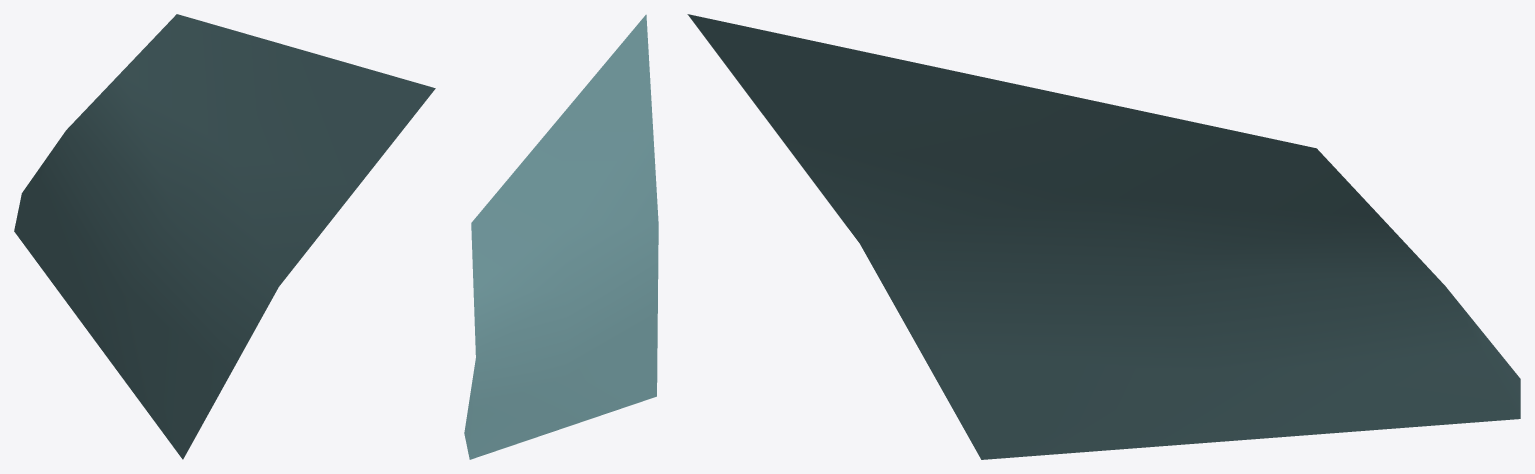
The model's file is Electric_1_Window_Tessellate_RR.fbx.
The picture shows the model from 3 angles, left to right: view 1: azimuth 30°, elevation 25°; view 2: azimuth 150°, elevation 25°; view 3: azimuth 270°, elevation 25°; orthographic projection. The views are drawn at different scales.
Parts seen in each view (by area): view 1: Electric_1_Window_Tessellate_RR; view 2: Electric_1_Window_Tessellate_RR; view 3: Electric_1_Window_Tessellate_RR.
Part boxes in pixels (x1,y1,x2,y2): Electric_1_Window_Tessellate_RR: (14,14,435,459); Electric_1_Window_Tessellate_RR: (464,14,658,459); Electric_1_Window_Tessellate_RR: (687,14,1520,459).
Bounding box in the file's own units: 7.59 × 23.07 × 33.07.
